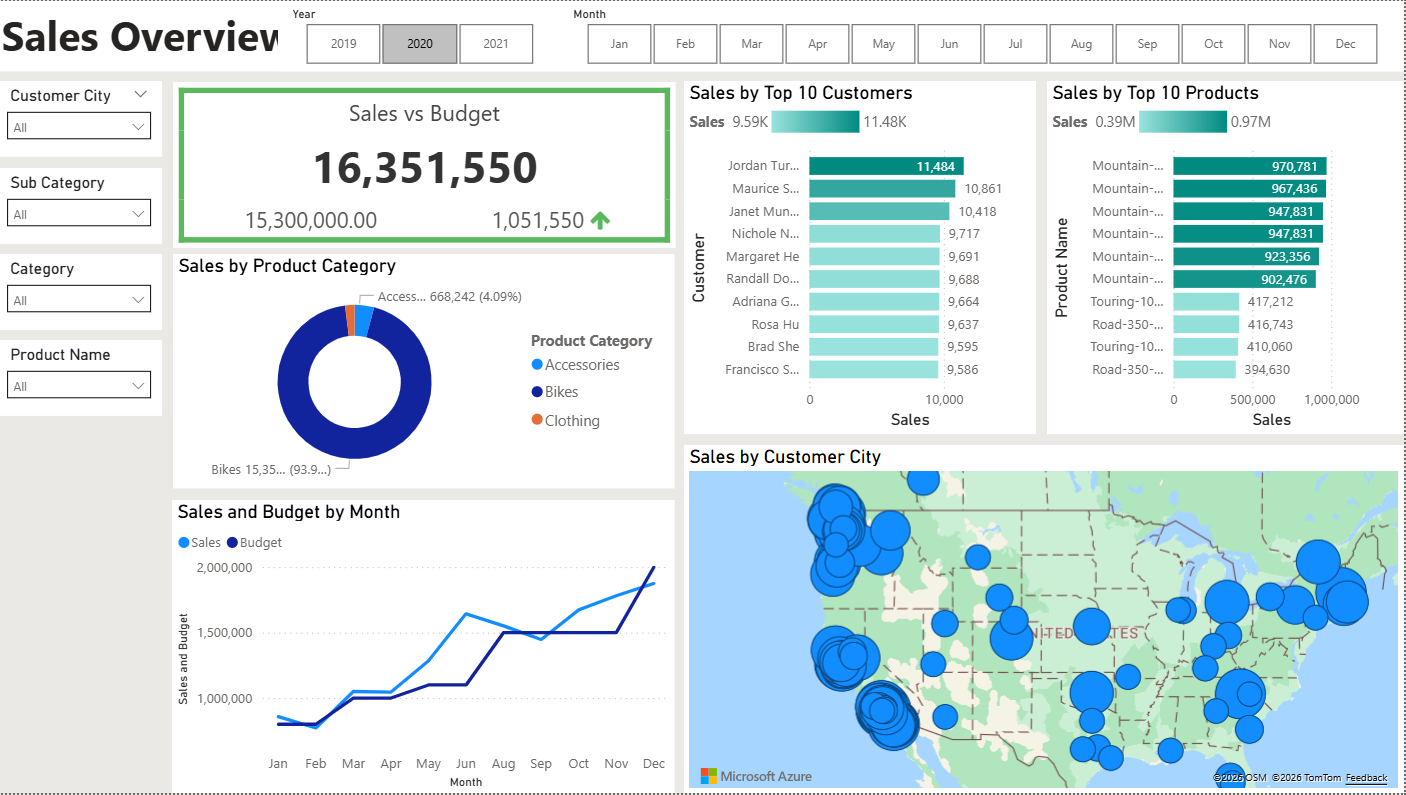

Layout of this report page (visuals, bound fields, positions):
{"tool":"powerbi","page":{"name":"Sales Overview","canvas":[1280,720],"ordinal":0},"visuals":[{"type":"textbox","box":[0,0,1280,64],"z":0},{"type":"slicer","fields":{"Values":["DIM_Calendar.Year"]},"box":[256,0,256,64],"z":1000},{"type":"slicer","fields":{"Values":["DIM_Calendar.MonthShort"]},"box":[512,0,768,64],"z":2000},{"type":"slicer","fields":{"Values":["DIM_Customers.Customer City"]},"box":[0,73,150.5,69.3],"z":3000},{"type":"slicer","fields":{"Values":["DIM_Products.Product Category"]},"box":[0,229.9,150.5,69.3],"z":4000},{"type":"slicer","fields":{"Values":["DIM_Products.Product Name"]},"box":[0,308.4,150.5,69.3],"z":5000},{"type":"slicer","fields":{"Values":["DIM_Products.Sub Category"]},"box":[0,151.4,150.5,69.3],"z":6000},{"type":"barChart","title":"Sales by Top 10 Products","fields":{"Category":["DIM_Products.Product Name"],"Y":["Analysis Metrics.Sales"]},"box":[955.2,73,324.8,321.1],"z":7000},{"type":"lineChart","fields":{"Category":["DIM_Calendar.MonthShort"],"Y":["Analysis Metrics.Sales","Analysis Metrics.Budget"]},"box":[160.7,452.8,456.3,267.2],"z":8000},{"type":"barChart","title":"Sales by Top 10 Customers","fields":{"Category":["DIM_Customers.Full Name"],"Y":["Analysis Metrics.Sales"]},"box":[625.9,73,320.2,321.1],"z":9000},{"type":"donutChart","fields":{"Y":["Analysis Metrics.Sales"],"Series":["DIM_Products.Product Category"]},"box":[160.6,229.9,456.2,213.5],"z":10000},{"type":"azureMap","fields":{"Category":["DIM_Customers.Customer City"],"Size":["Analysis Metrics.Sales"]},"box":[625.9,403.3,654.1,316.6],"z":12000},{"type":"BBED0A4D4D8D44CE93CF2DAFADEE466C","fields":{"actual":["Analysis Metrics.Sales"],"target2":["Analysis Metrics.Sales / Budget"],"target1":["Analysis Metrics.Budget"]},"box":[160.5,73.4,456.6,151.3],"z":13001}]}

Visuals, with their boxes in screenshot pixels (x1, y1, x2, y2), scaled from the page's 1280x720 canvas onto the 1406x795 screenshot:
textbox: 0, 0, 1405, 71
slicer - DIM_Calendar.Year: 281, 0, 562, 71
slicer - DIM_Calendar.MonthShort: 562, 0, 1405, 71
slicer - DIM_Customers.Customer City: 0, 81, 165, 157
slicer - DIM_Products.Product Category: 0, 254, 165, 330
slicer - DIM_Products.Product Name: 0, 341, 165, 417
slicer - DIM_Products.Sub Category: 0, 167, 165, 244
"Sales by Top 10 Products" barChart: 1049, 81, 1405, 435
lineChart - DIM_Calendar.MonthShort x Analysis Metrics.Sales: 177, 500, 678, 794
"Sales by Top 10 Customers" barChart: 688, 81, 1039, 435
donutChart - Analysis Metrics.Sales x DIM_Products.Product Category: 176, 254, 678, 490
azureMap - DIM_Customers.Customer City x Analysis Metrics.Sales: 688, 445, 1405, 794
BBED0A4D4D8D44CE93CF2DAFADEE466C - Analysis Metrics.Sales x Analysis Metrics.Sales / Budget: 176, 81, 678, 248
